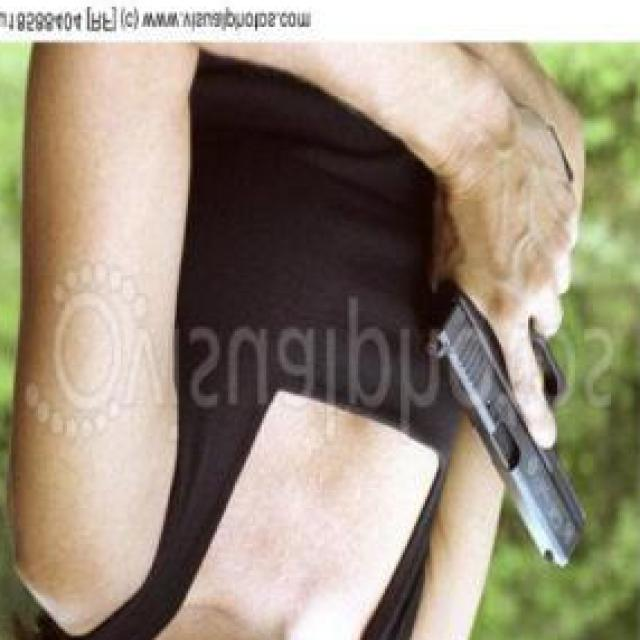pistol: (421, 273, 596, 575)
